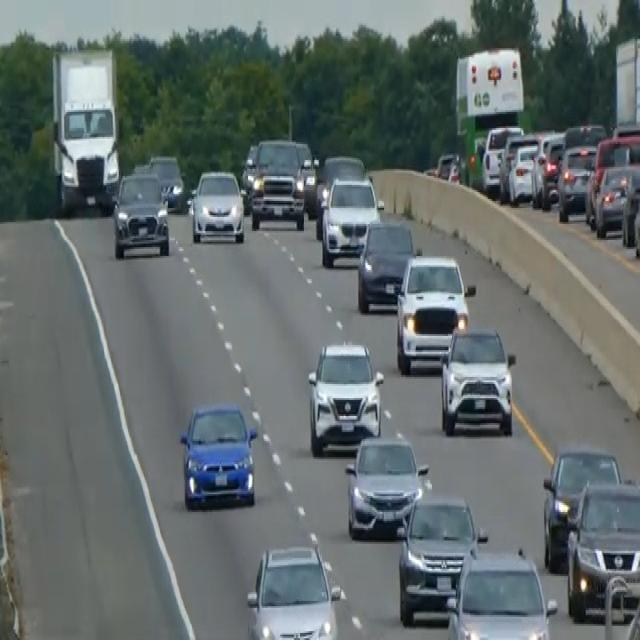car: (397, 494, 487, 626), (444, 544, 558, 638), (565, 478, 639, 622), (541, 444, 621, 570), (394, 251, 475, 375), (245, 542, 342, 638), (344, 432, 428, 539), (306, 338, 384, 453), (439, 322, 516, 436), (178, 400, 258, 508), (320, 172, 384, 266), (356, 217, 418, 313), (250, 137, 305, 231), (112, 169, 170, 258), (314, 151, 366, 237), (190, 167, 245, 244), (594, 162, 639, 238), (556, 140, 597, 220), (499, 135, 543, 206), (481, 123, 523, 192), (531, 130, 565, 208), (147, 153, 185, 211), (295, 138, 317, 212), (620, 165, 639, 247), (239, 142, 259, 208), (434, 149, 461, 183), (633, 165, 639, 267)
lorry: (50, 46, 121, 215)
